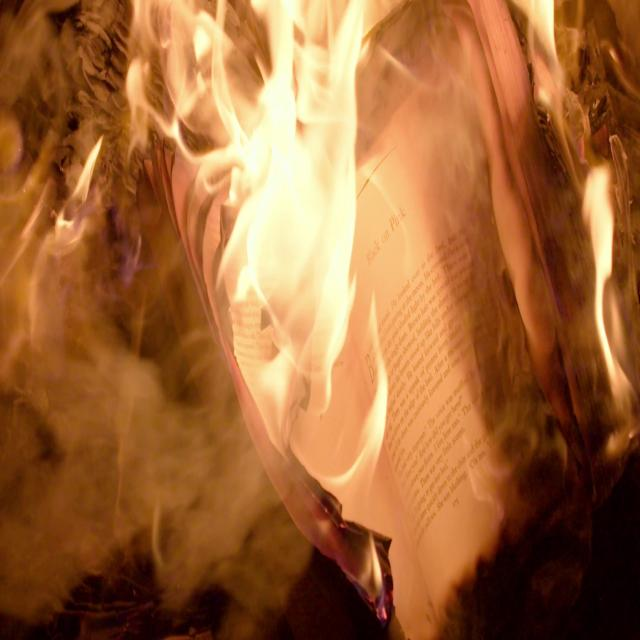Fire: (219, 10, 370, 459), (128, 0, 270, 203), (583, 160, 640, 396), (341, 319, 390, 527), (508, 0, 585, 92), (55, 133, 117, 230), (248, 0, 314, 65)
Smoke: (0, 317, 312, 640)
